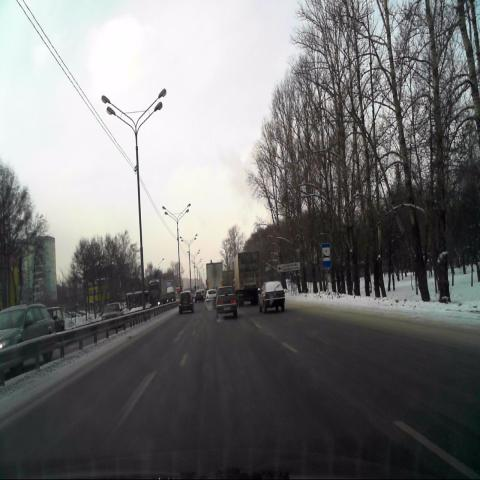7_2: (322, 243, 331, 267)
